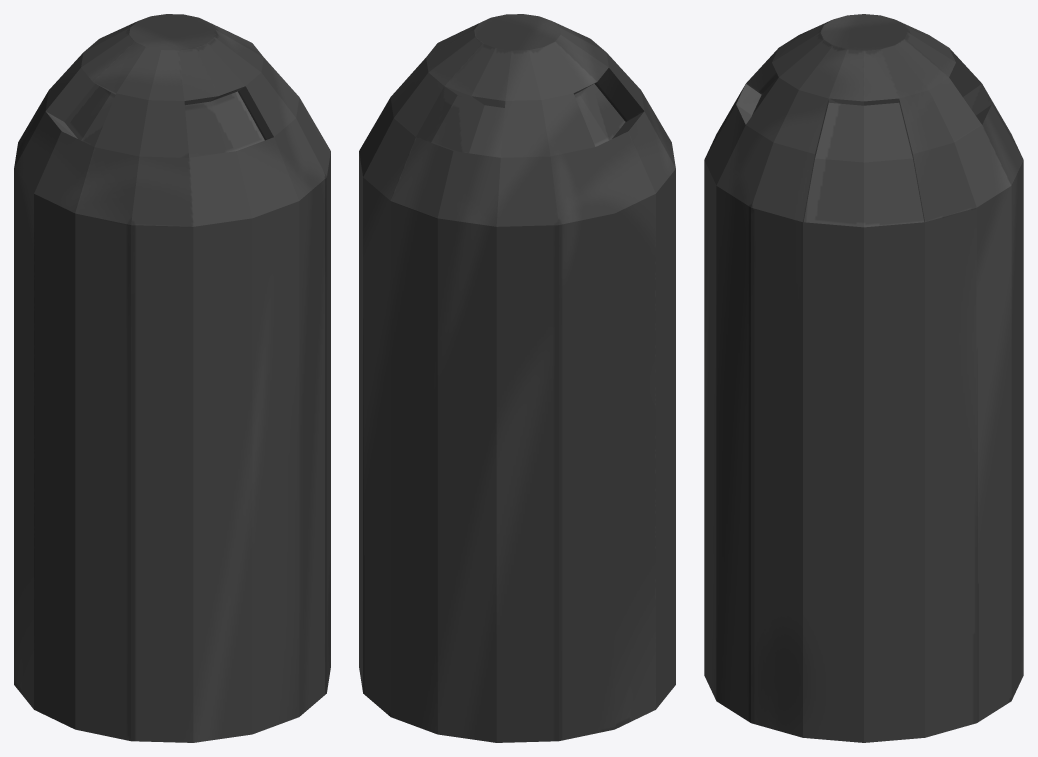
File: Dome.fbx
3 views of the same model, side by side, from view 1: azimuth 30°, elevation 25°; view 2: azimuth 150°, elevation 25°; view 3: azimuth 270°, elevation 25° (orthographic).
Visible parts, largest first — view 1: Dome; view 2: Dome; view 3: Dome.
Boxes of the visible parts, x1=… form: Dome: x1=14, y1=14, x2=330, y2=742; Dome: x1=359, y1=14, x2=675, y2=742; Dome: x1=704, y1=14, x2=1023, y2=742.
Size of the model in its own units: 200 by 444 by 200.
